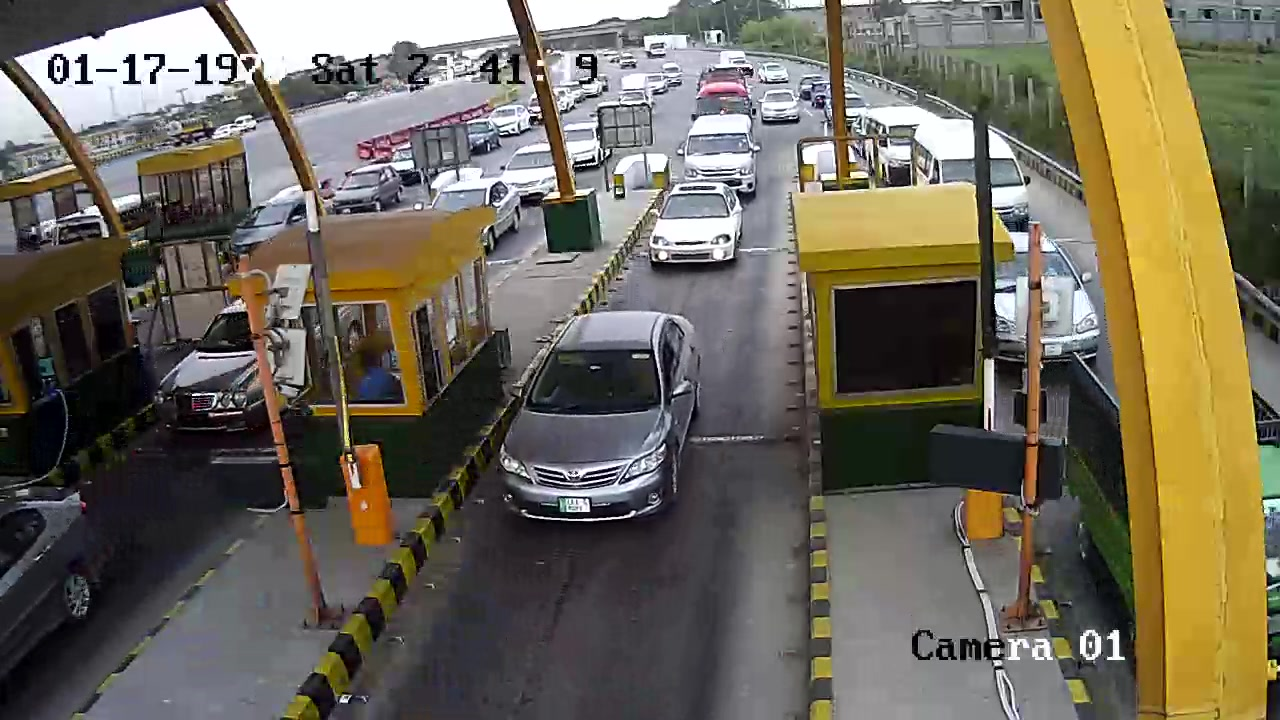F1: (484, 300, 717, 547), (643, 179, 747, 279)
